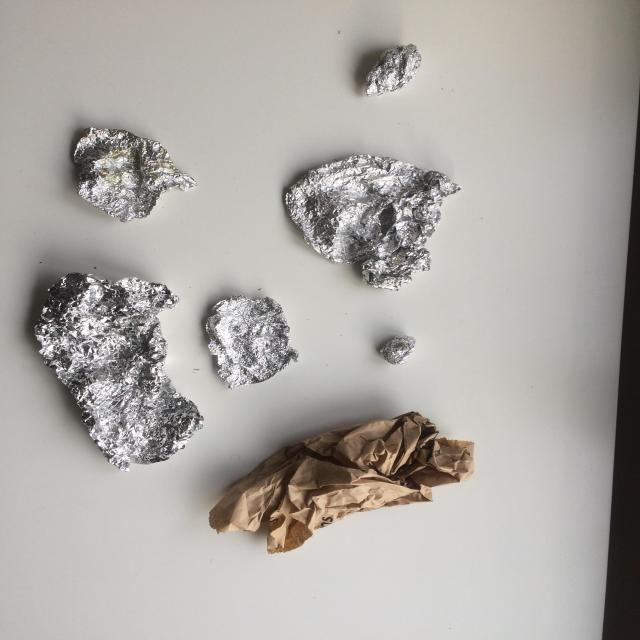Aluminium foil: (34, 272, 204, 472), (285, 154, 463, 291), (74, 127, 198, 223), (205, 295, 300, 390), (364, 43, 421, 98), (380, 335, 417, 365)
Paper bag: (209, 412, 474, 554)
